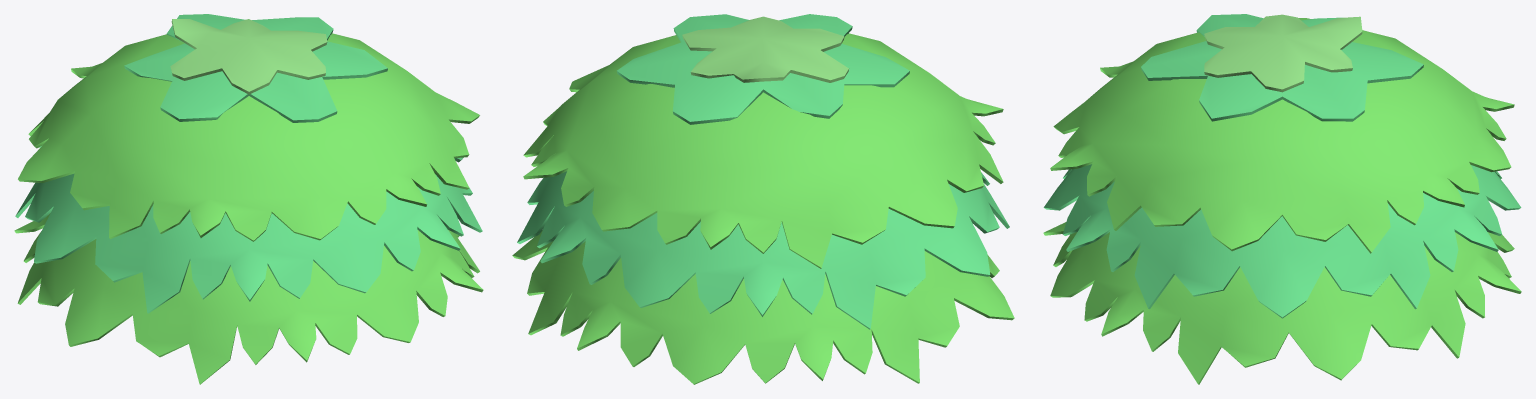
Rendered from Plant2.fbx.
3 renders of one model, left to right at view 1: azimuth 30°, elevation 25°; view 2: azimuth 150°, elevation 25°; view 3: azimuth 270°, elevation 25°, orthographic. The views are drawn at different scales.
Visible parts, largest first — view 1: Plant.002; view 2: Plant.002; view 3: Plant.002.
Boxes of the visible parts, x1,y1,x2,y2 form: Plant.002: (14,14,483,384); Plant.002: (512,14,1014,384); Plant.002: (1043,14,1521,384).
Bounding box in the file's own units: 4.35 × 2.43 × 4.12.
